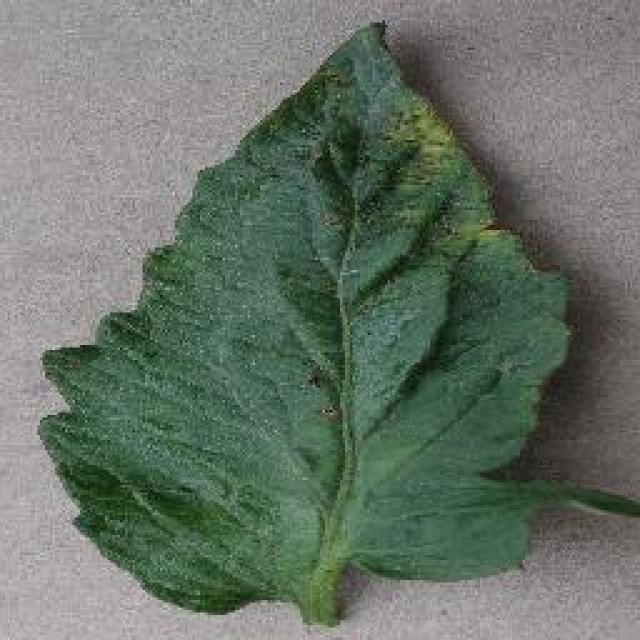Tomato bacterial spot leaf: (56, 31, 634, 616)
